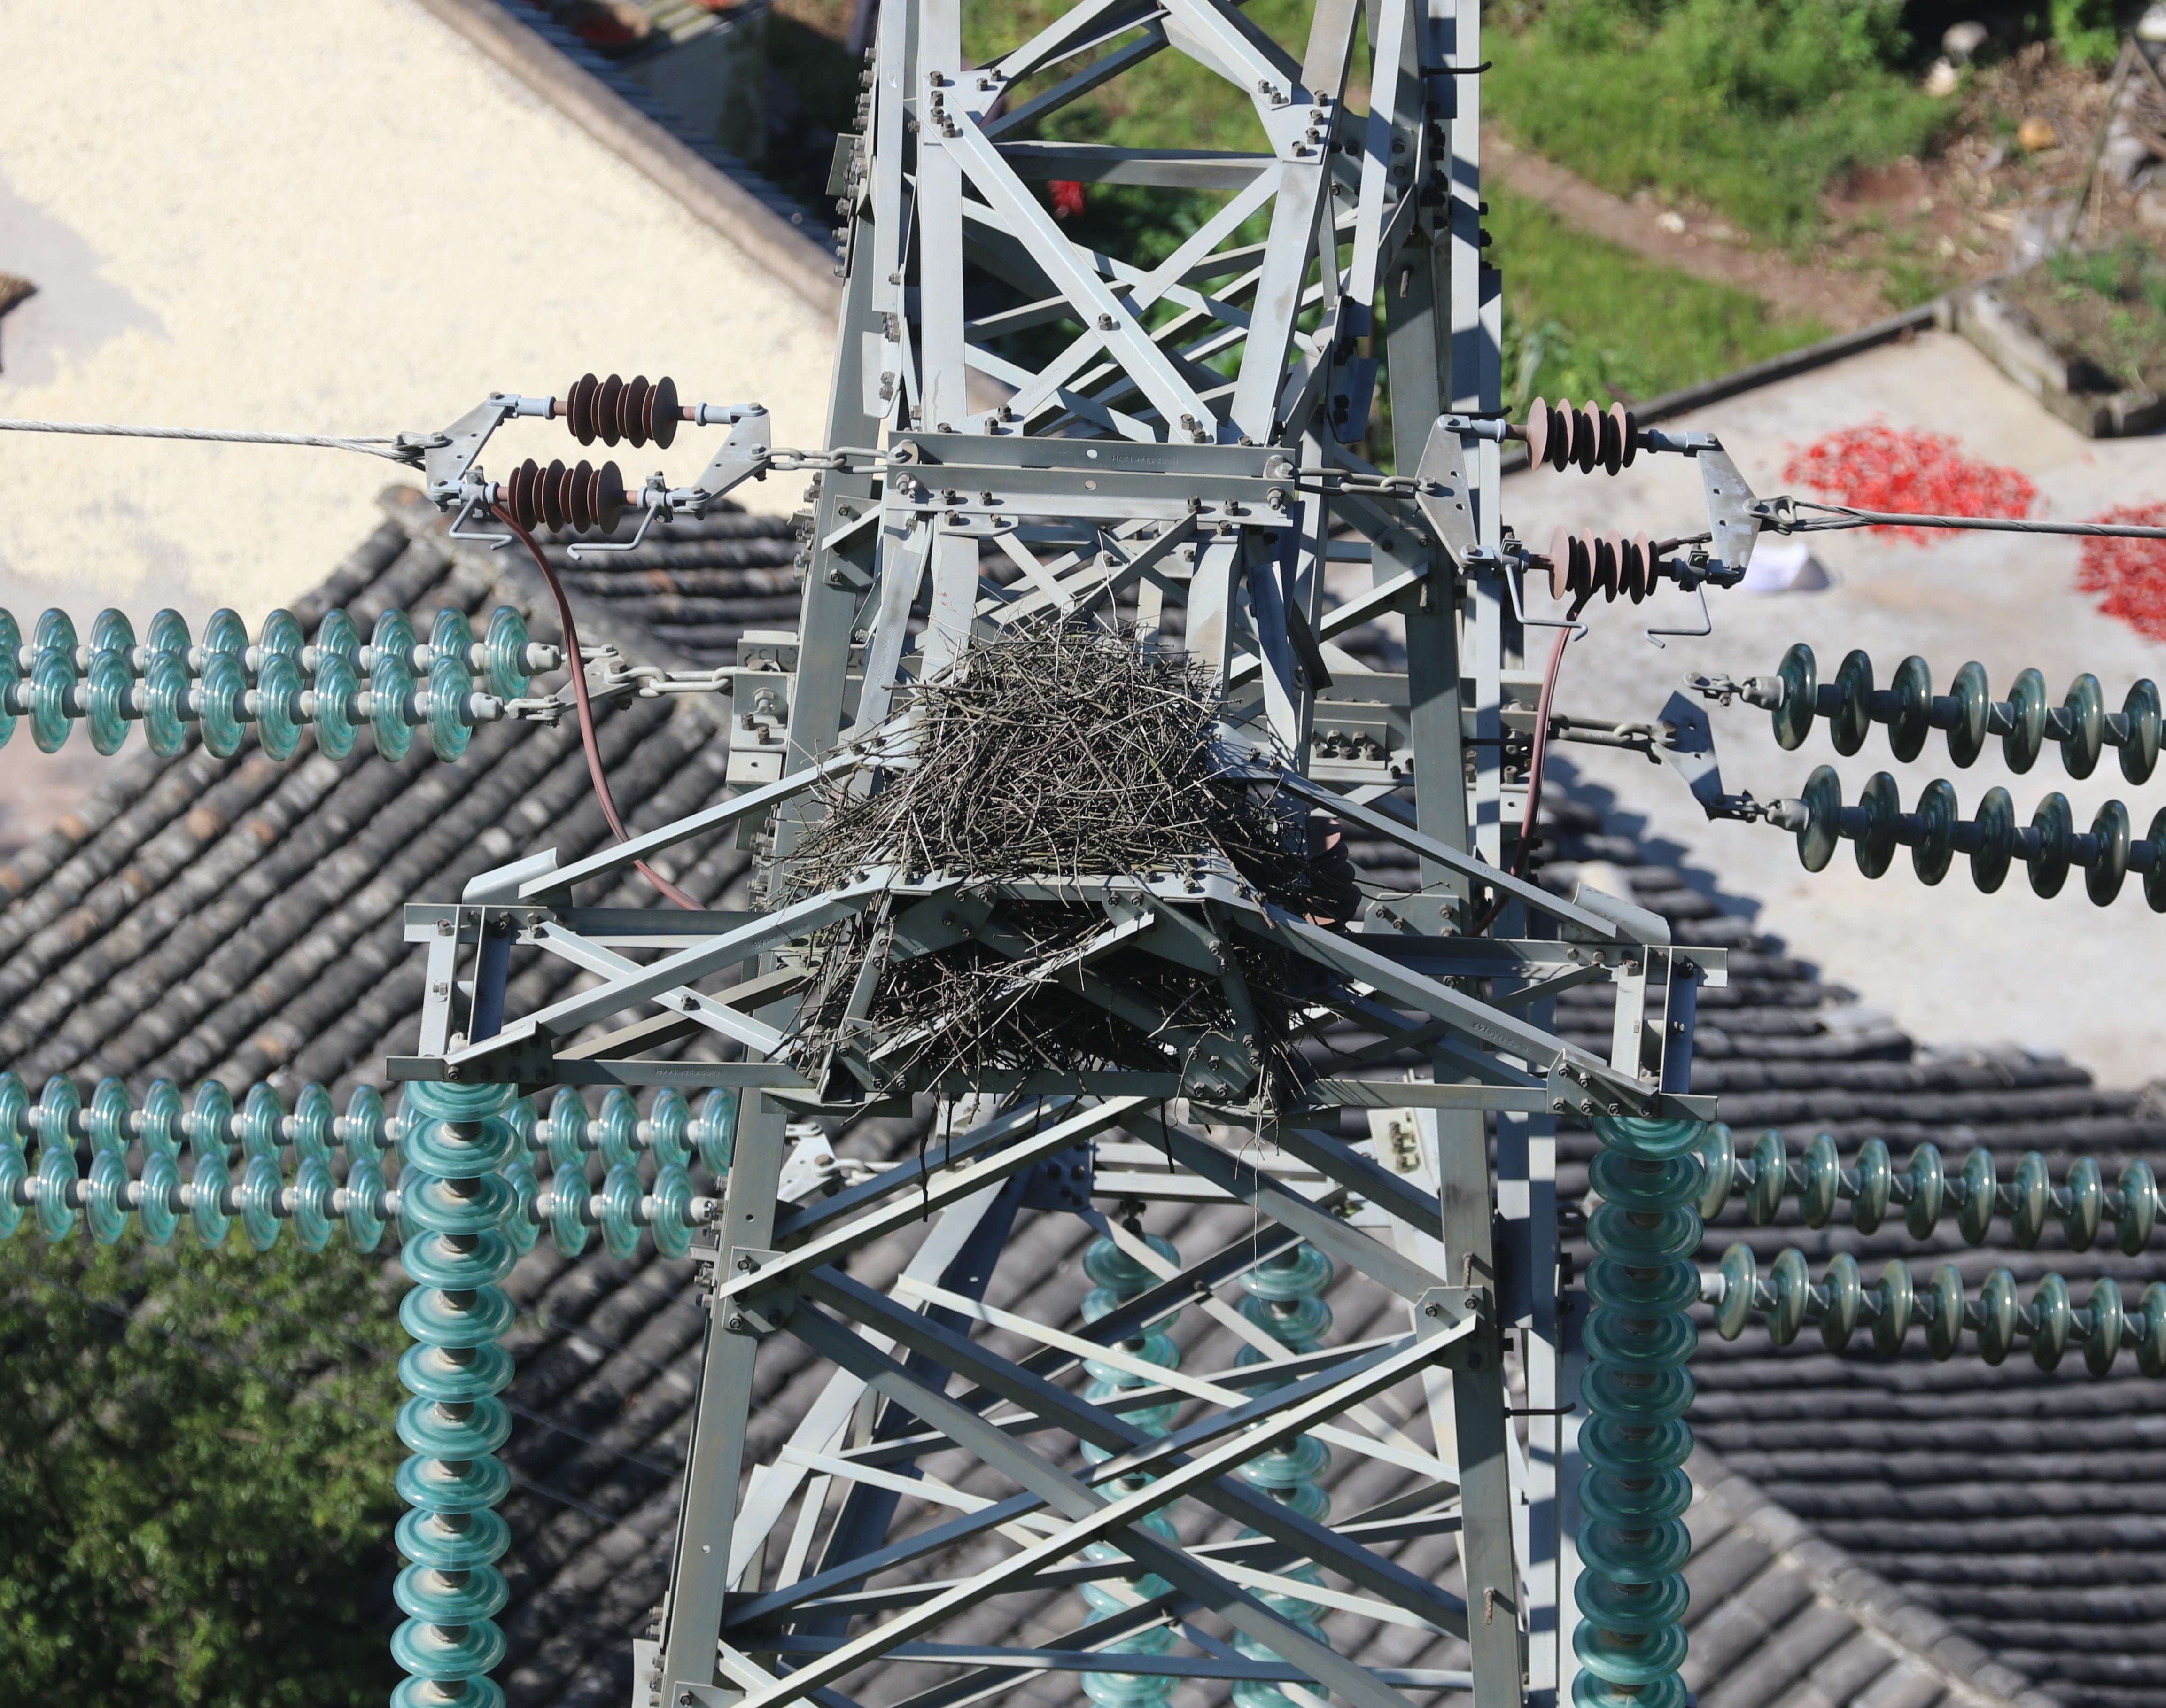niaowo: (772, 617, 1331, 1106)
